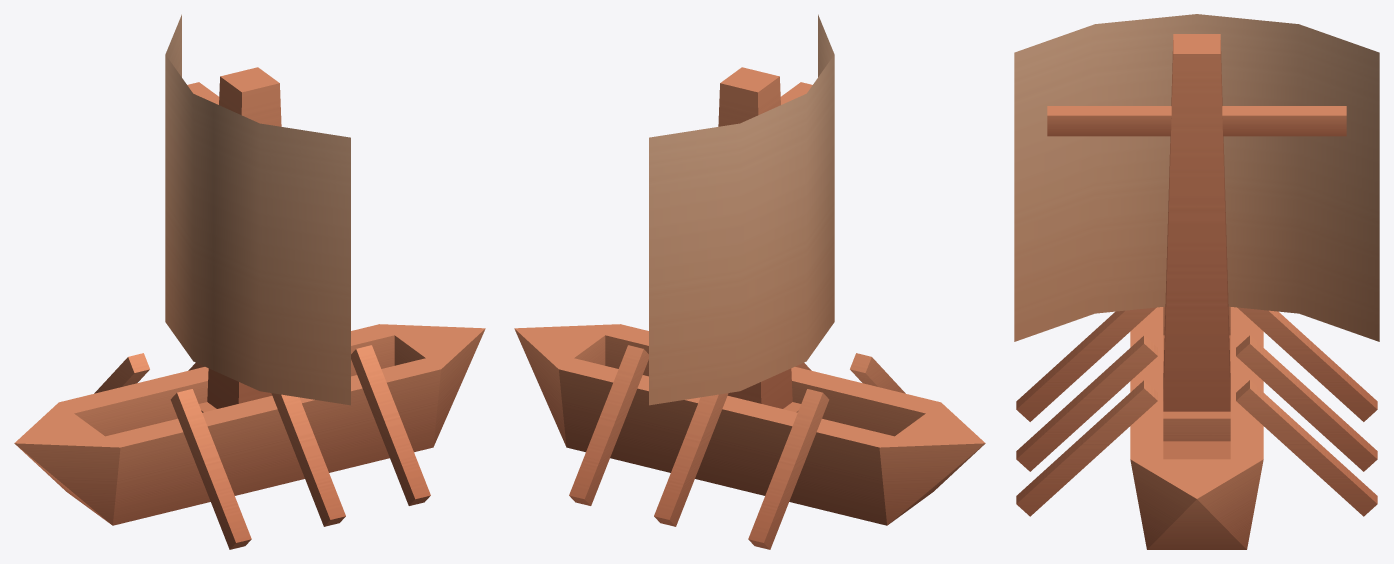
The model's file is unit-ship-large.fbx.
The picture shows the model from 3 angles, left to right: view 1: azimuth 30°, elevation 25°; view 2: azimuth 150°, elevation 25°; view 3: azimuth 270°, elevation 25°; orthographic projection. The views are drawn at different scales.
Visible parts, largest first — view 1: unit_ship_large; view 2: unit_ship_large; view 3: unit_ship_large.
Boxes of the visible parts, <box> form: unit_ship_large: <box>14,14,485,549</box>; unit_ship_large: <box>514,14,985,549</box>; unit_ship_large: <box>1014,14,1379,549</box>.
Bounding box in the file's own units: 64.5 × 50.97 × 40.
1 material, 1 textured.
